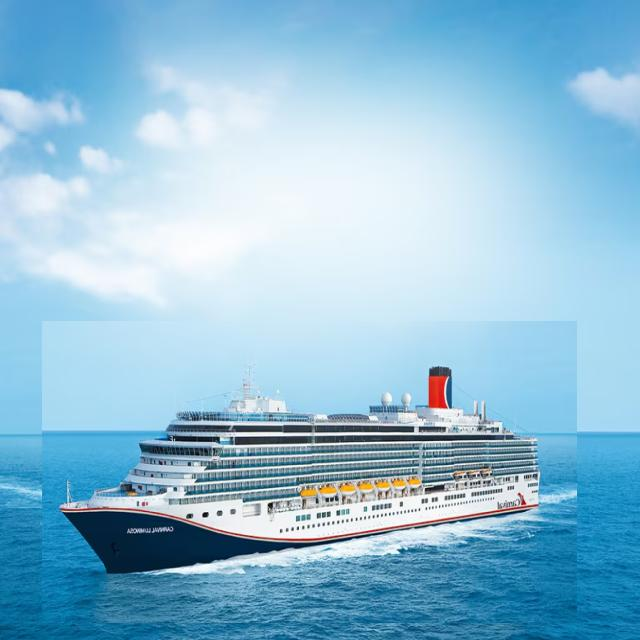PassengerShip: (42, 322, 577, 624)
